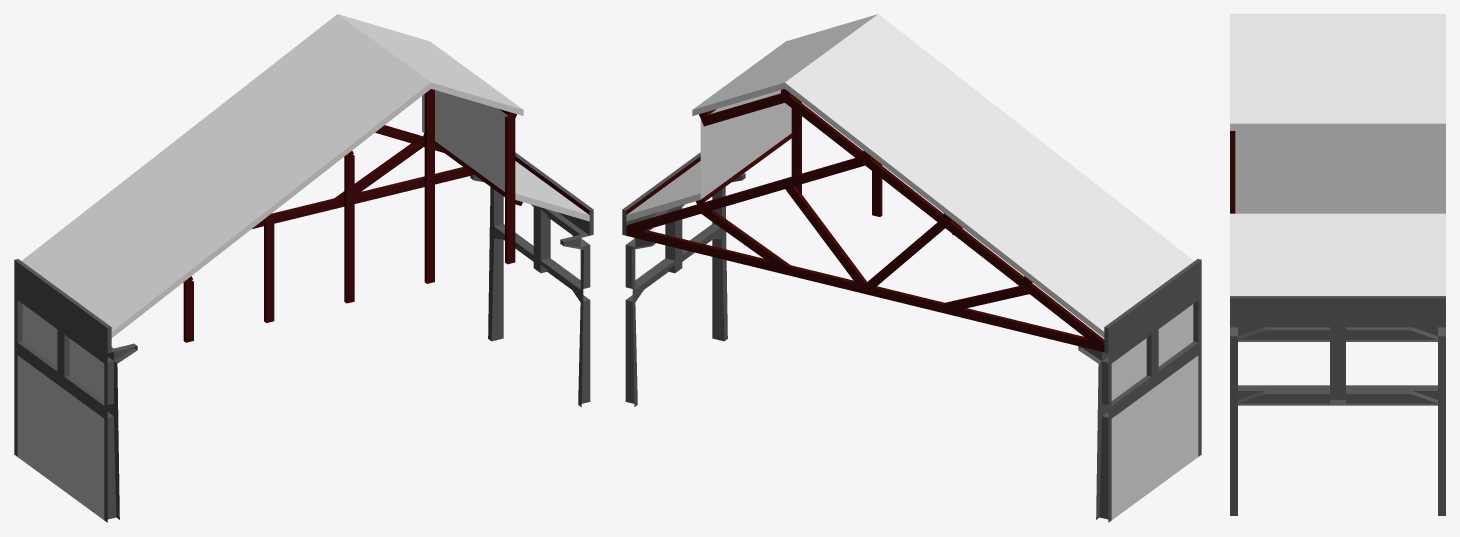
The model's file is SM_Factory_F.fbx.
3 renders of one model, left to right at view 1: azimuth 30°, elevation 25°; view 2: azimuth 150°, elevation 25°; view 3: azimuth 270°, elevation 25°, orthographic. The views are drawn at different scales.
Parts seen in each view (by area): view 1: Factory_Frame_F, Factory_PillarsAndBeams_F; view 2: Factory_Frame_F, Factory_PillarsAndBeams_F; view 3: Factory_Frame_F, Factory_PillarsAndBeams_F.
Boxes of the visible parts, box(x1,y1,x2,y2) form: Factory_Frame_F: box(14, 14, 593, 353); Factory_PillarsAndBeams_F: box(14, 175, 590, 522); Factory_Frame_F: box(622, 14, 1201, 353); Factory_PillarsAndBeams_F: box(625, 173, 1201, 522); Factory_Frame_F: box(1230, 14, 1445, 327); Factory_PillarsAndBeams_F: box(1230, 327, 1445, 515).
Bounding box in the file's own units: 12 × 4 × 8.53.
